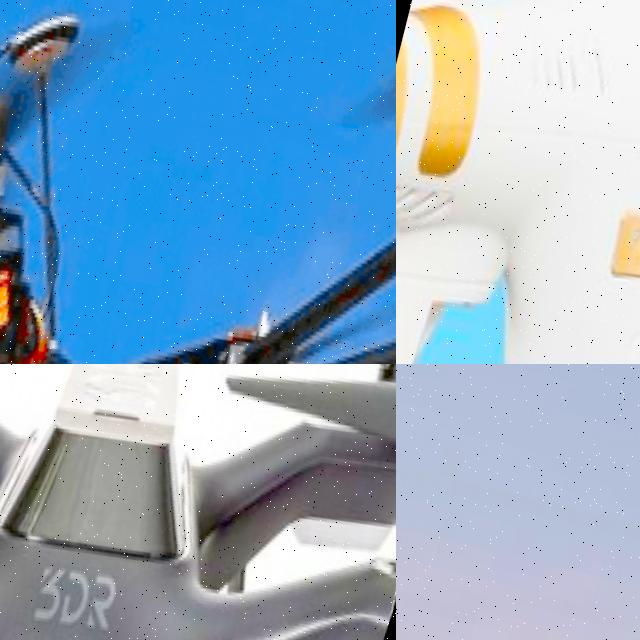drone: (0, 0, 396, 364), (0, 364, 396, 640), (396, 0, 640, 364)
